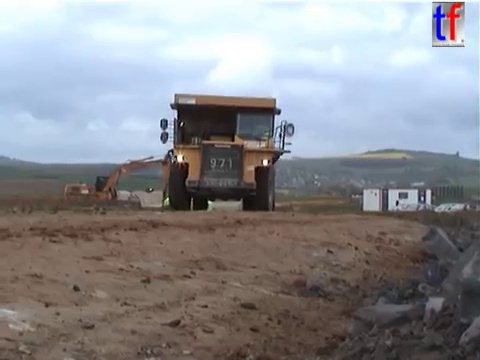excavator: (62, 152, 181, 205)
truck: (158, 90, 298, 213)
